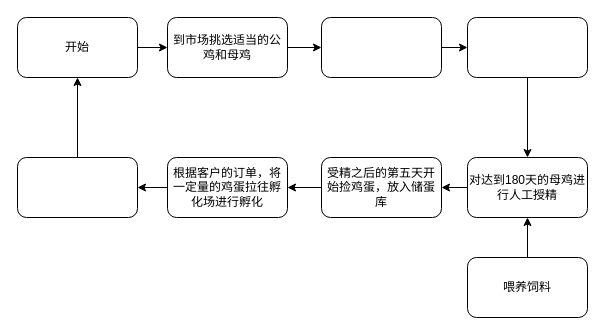
Some shapes in this 605 by 335 pixel diagram are drawn without their labels. Each missing label, with the box of its shape:
从公鸡取精: (466, 16, 588, 78)
养殖流程结束: (16, 156, 138, 218)
对挑选回来的鸡打疫苗: (320, 16, 442, 78)
